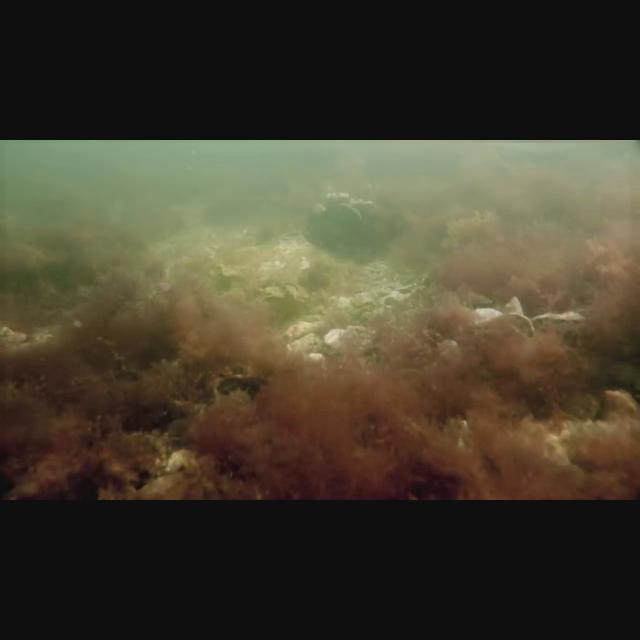Oyster-Closed: (485, 312, 538, 335), (531, 309, 588, 323), (470, 308, 501, 329), (336, 204, 364, 225), (351, 197, 376, 206)
